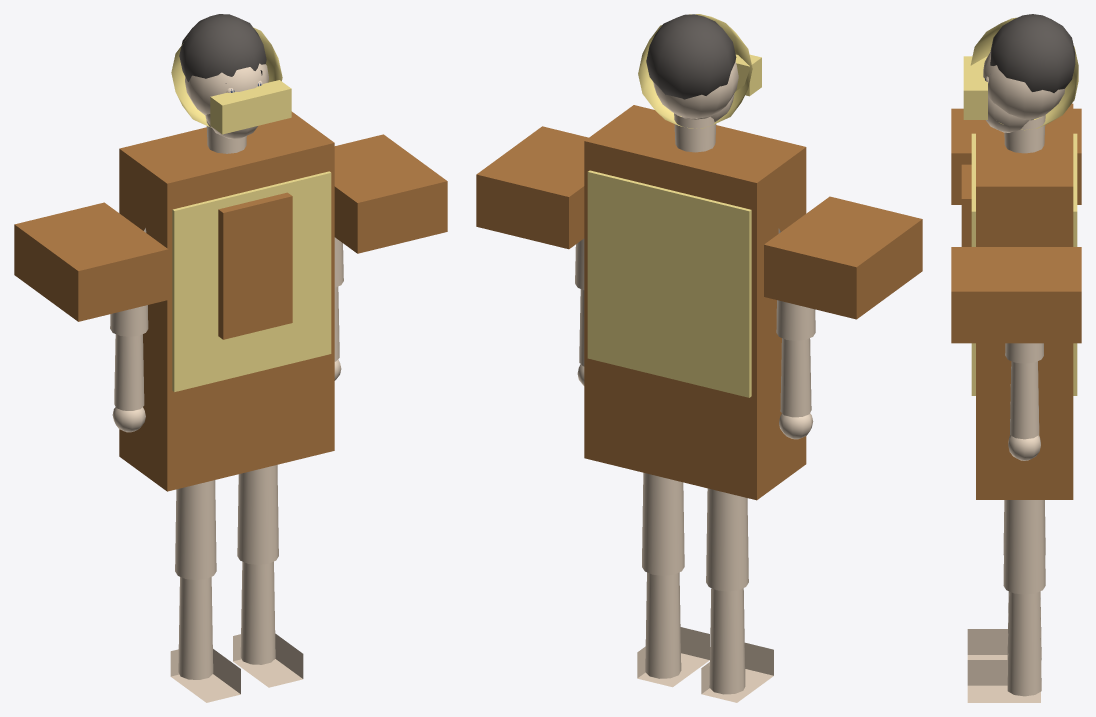
The model's file is body.glb.
The picture shows the model from 3 angles, left to right: view 1: azimuth 30°, elevation 25°; view 2: azimuth 150°, elevation 25°; view 3: azimuth 270°, elevation 25°; orthographic projection. The views are drawn at different scales.
Parts seen in each view (by area): view 1: Cloth, Skin, Metal, Hair; view 2: Cloth, Metal, Skin, Hair; view 3: Cloth, Skin, Hair, Metal.
Part boxes in pixels (box(x1,y1,x2,y2)): Cloth: box(14, 111, 447, 491); Skin: box(110, 63, 343, 702); Metal: box(171, 27, 331, 391); Hair: box(179, 14, 266, 83); Cloth: box(476, 105, 922, 500); Metal: box(587, 14, 761, 397); Skin: box(575, 61, 815, 702); Hair: box(646, 14, 736, 99); Cloth: box(951, 103, 1081, 499); Skin: box(967, 51, 1065, 702); Hair: box(990, 14, 1075, 92); Metal: box(963, 17, 1078, 395).
Size of the model in its own units: 1.07 by 1.79 by 0.32.
